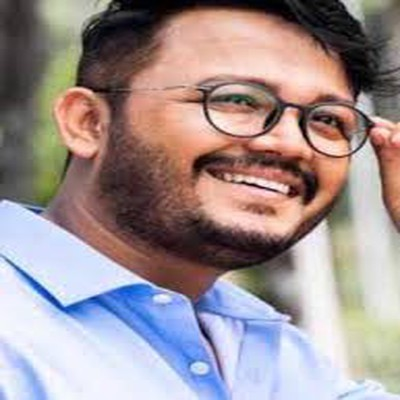eywear: (169, 50, 382, 160)
